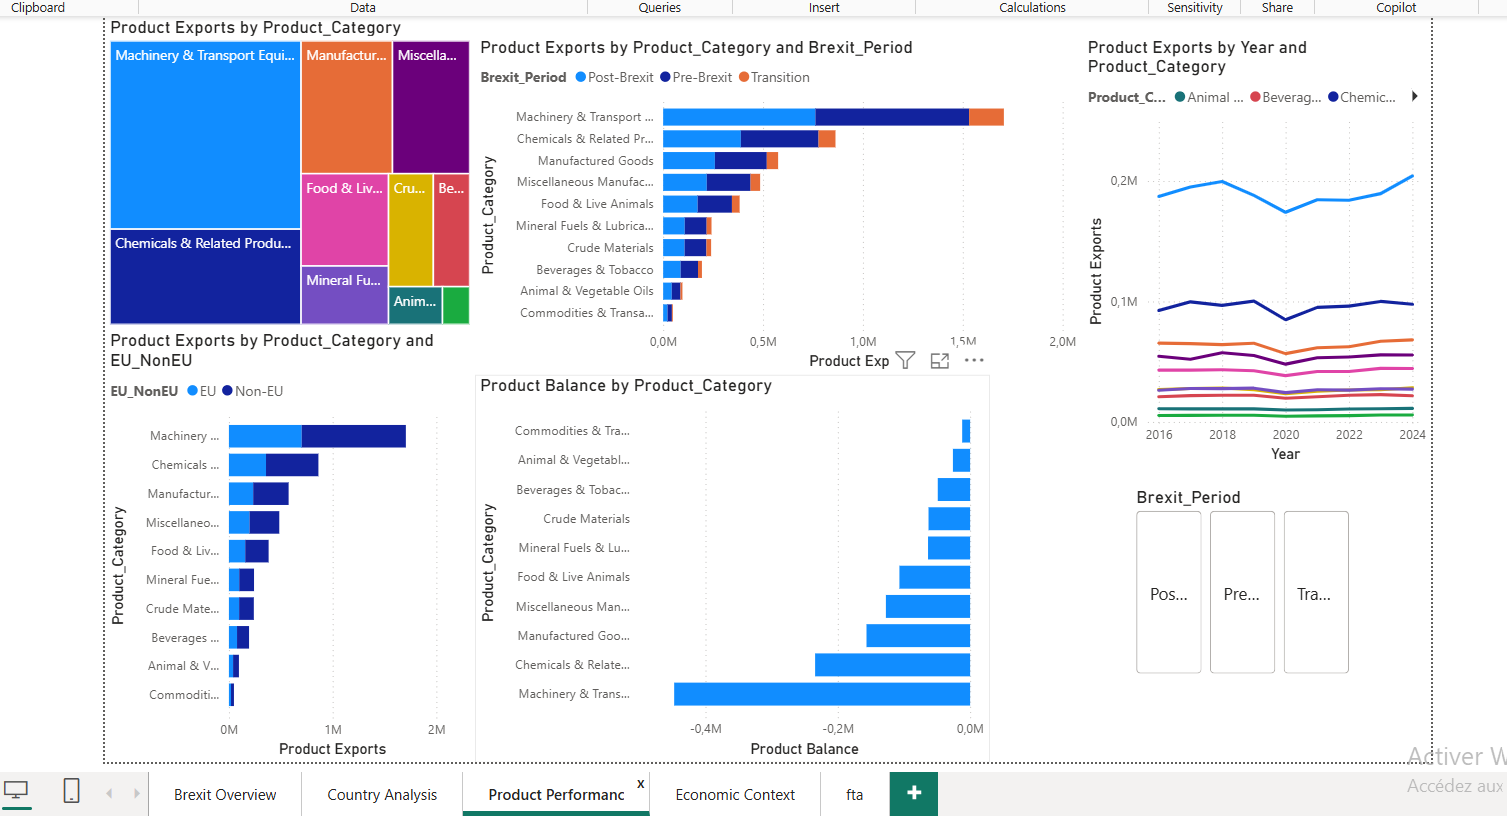

Layout of this report page (visuals, bound fields, positions):
{"tool":"powerbi","page":{"name":"Product Performanc","canvas":[1280,720],"ordinal":2},"visuals":[{"type":"treemap","fields":{"Values":["richlist table2_trade_by_product.Product Exports"],"Group":["richlist table2_trade_by_product.Product_Category"]},"box":[0,0,357.1,302.8],"z":0},{"type":"barChart","fields":{"Category":["richlist table2_trade_by_product.Product_Category"],"Y":["richlist table2_trade_by_product.Product Exports"],"Series":["richlist table2_trade_by_product.Brexit_Period"]},"box":[357.1,19.3,586.3,326.9],"z":1000},{"type":"barChart","fields":{"Category":["richlist table2_trade_by_product.Product_Category"],"Y":["richlist table2_trade_by_product.Product Exports"],"Series":["richlist table2_trade_by_product.EU_NonEU"]},"box":[0,302.8,405.4,417.4],"z":2000},{"type":"barChart","fields":{"Category":["richlist table2_trade_by_product.Product_Category"],"Y":["richlist table2_trade_by_product.Product Balance"]},"box":[427.1,346.2,507.9,374],"z":3000},{"type":"lineChart","fields":{"Category":["richlist table2_trade_by_product.Year"],"Y":["richlist table2_trade_by_product.Product Exports"],"Series":["richlist table2_trade_by_product.Product_Category"]},"box":[943.4,19.3,336.6,522.4],"z":4000},{"type":"advancedSlicerVisual","fields":{"Values":["richlist table2_trade_by_product.Brexit_Period"]},"box":[935,557.4,336.6,105],"z":5000}]}

Visuals, with their boxes on the page's 1280x720 design canvas (x1, y1, x2, y2). These are canvas units, not pixel positions in the 1507x816 screenshot, which may show the page scaled, cropped or inside an application window:
treemap - richlist table2_trade_by_product.Product Exports x richlist table2_trade_by_product.Product_Category: left=0, top=0, right=357, bottom=303
barChart - richlist table2_trade_by_product.Product_Category x richlist table2_trade_by_product.Product Exports: left=357, top=19, right=943, bottom=346
barChart - richlist table2_trade_by_product.Product_Category x richlist table2_trade_by_product.Product Exports: left=0, top=303, right=405, bottom=720
barChart - richlist table2_trade_by_product.Product_Category x richlist table2_trade_by_product.Product Balance: left=427, top=346, right=935, bottom=720
lineChart - richlist table2_trade_by_product.Year x richlist table2_trade_by_product.Product Exports: left=943, top=19, right=1280, bottom=542
advancedSlicerVisual - richlist table2_trade_by_product.Brexit_Period: left=935, top=557, right=1272, bottom=662
